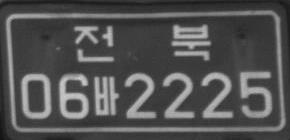0: (20, 72, 52, 119)
2: (200, 70, 233, 119), (124, 71, 157, 119), (162, 71, 195, 119)
5: (239, 70, 273, 119)
6: (58, 71, 89, 120)
바: (93, 76, 119, 115)
전북_D: (73, 23, 211, 62)
